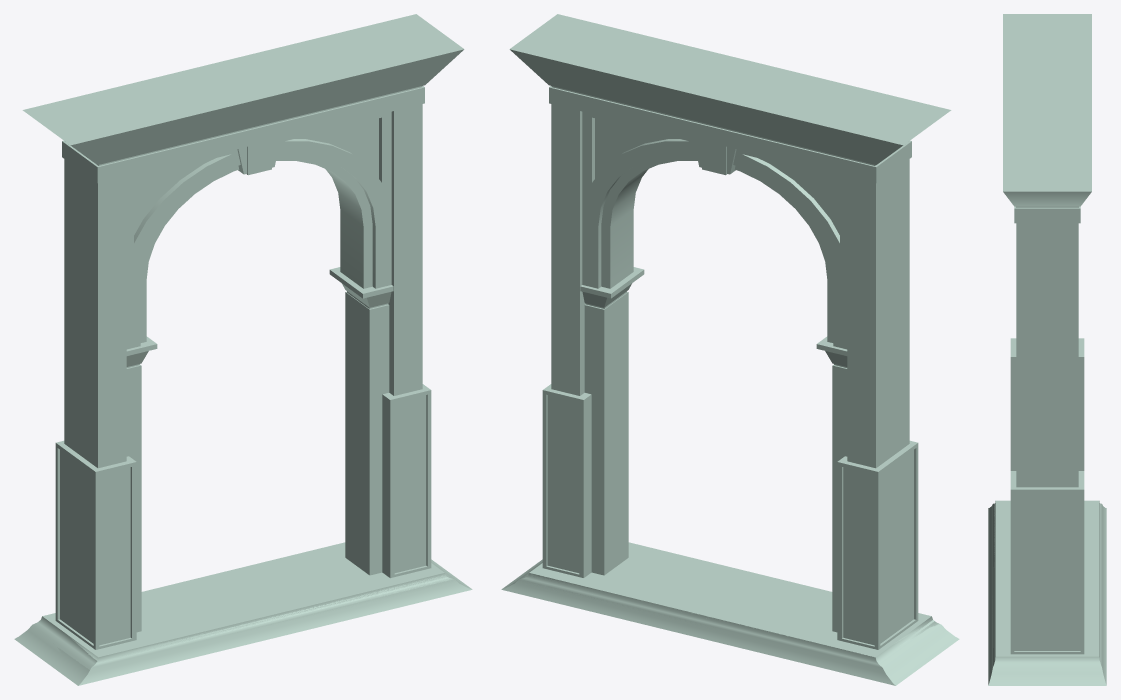
Rendered from door_h.fbx.
3 renders of one model, left to right at view 1: azimuth 30°, elevation 25°; view 2: azimuth 150°, elevation 25°; view 3: azimuth 270°, elevation 25°, orthographic. The views are drawn at different scales.
Parts seen in each view (by area): view 1: 문_high; view 2: 문_high; view 3: 문_high.
Boxes of the visible parts, left/top/right/bottom form: 문_high: left=14, top=14, right=472, bottom=685; 문_high: left=501, top=14, right=959, bottom=685; 문_high: left=988, top=14, right=1106, bottom=685.
Bounding box in the file's own units: 8.6 × 11.13 × 2.42.
